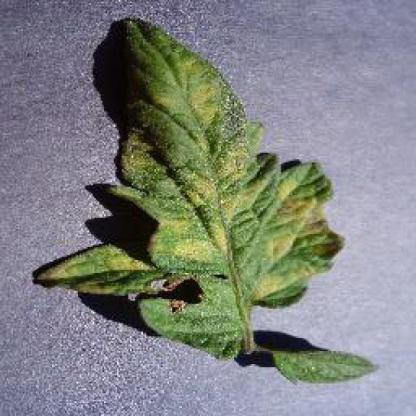Tomato_Leaf_Mold: (38, 20, 346, 354)
